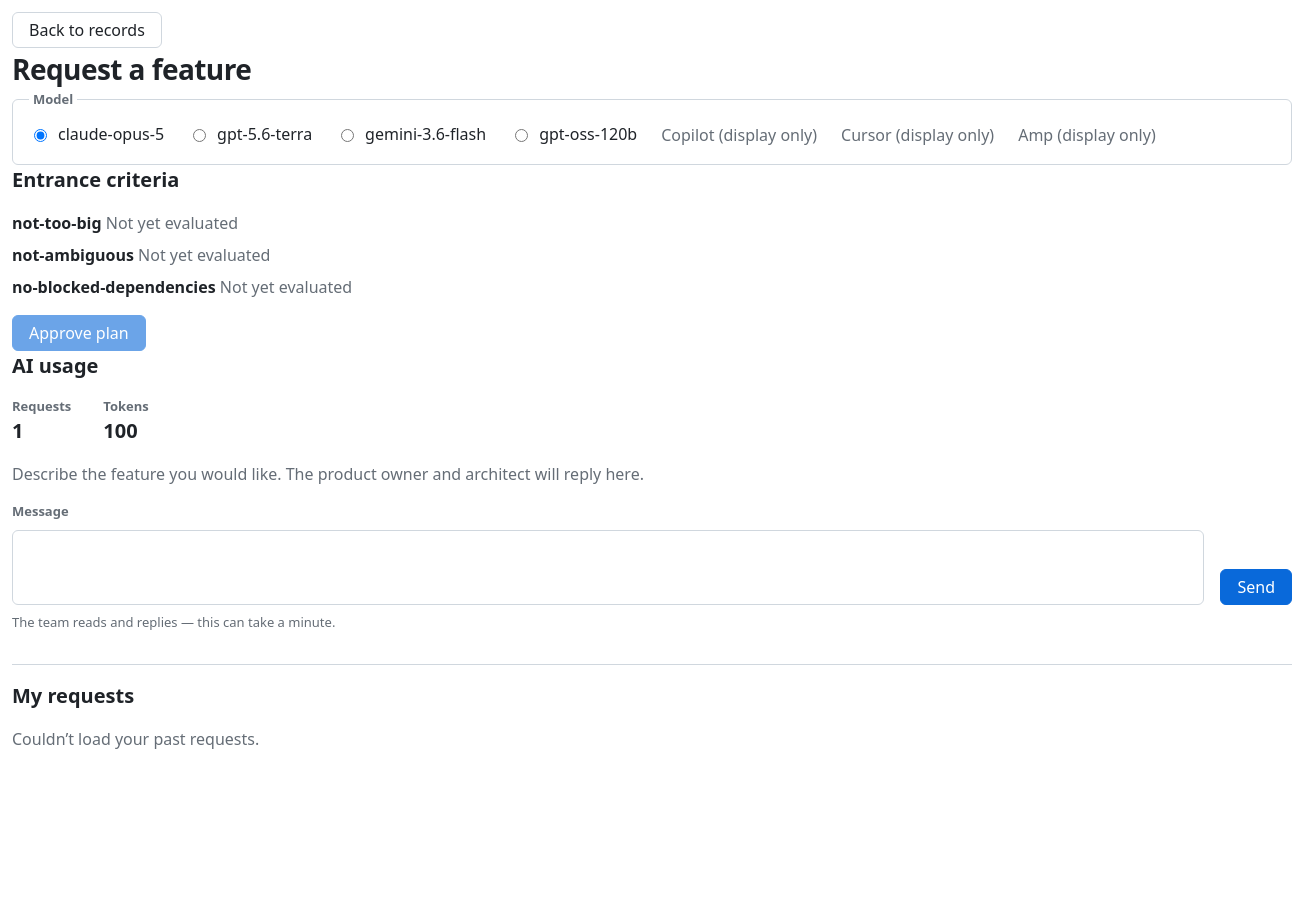
Test case: DAN-66 full model roster › still locks every roster radio once the session starts
The width and height of the screenshot is (1304, 912).
Expected: the text "Requests" is shown, [12,396,71,416]
Click the radio button labelled "gemini-3.6-flash" at (348, 135), box [341,128,354,142]
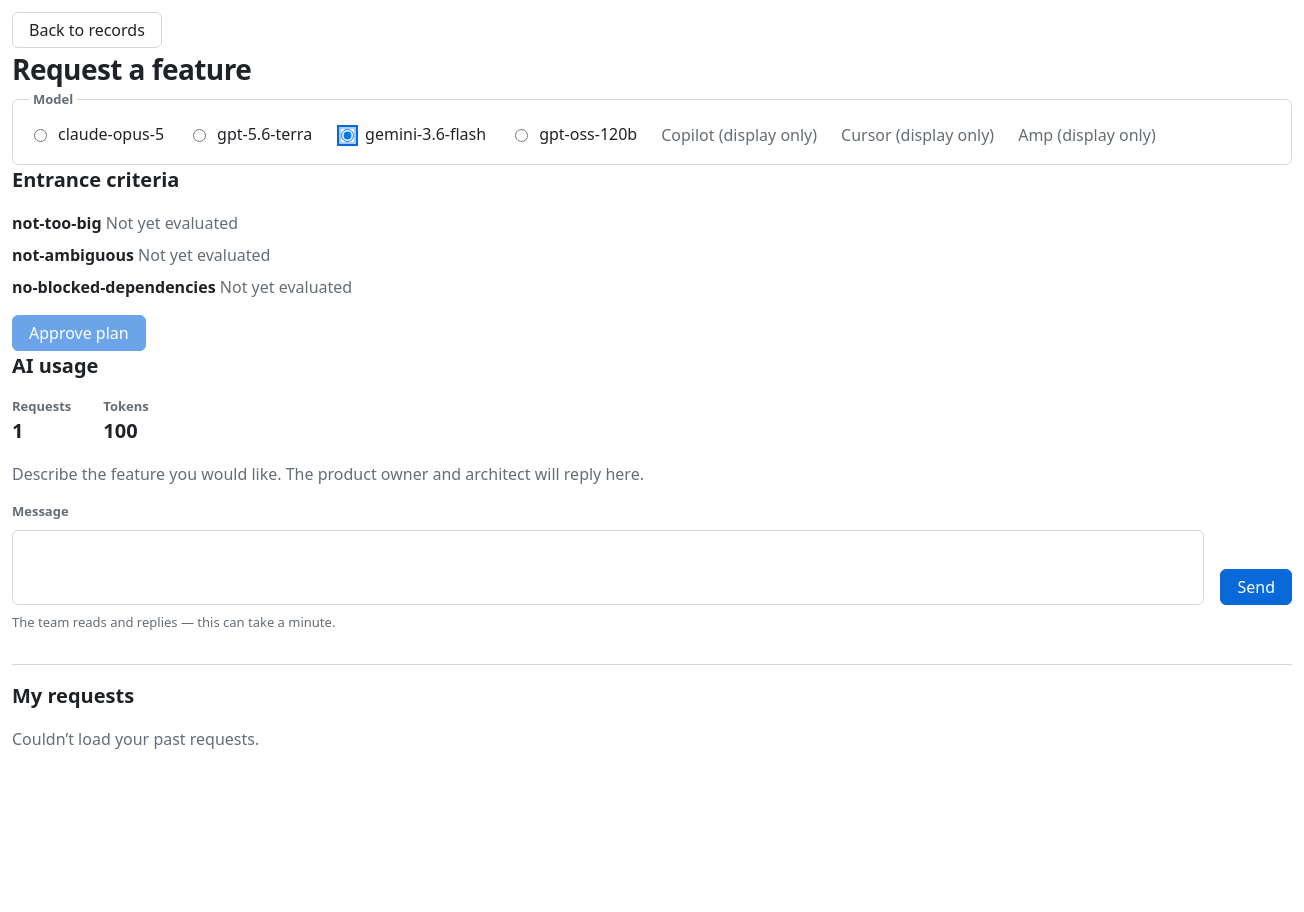
Type "Add CSV export" into the text box labelled "Message" at (608, 567), box [12,530,1204,604]
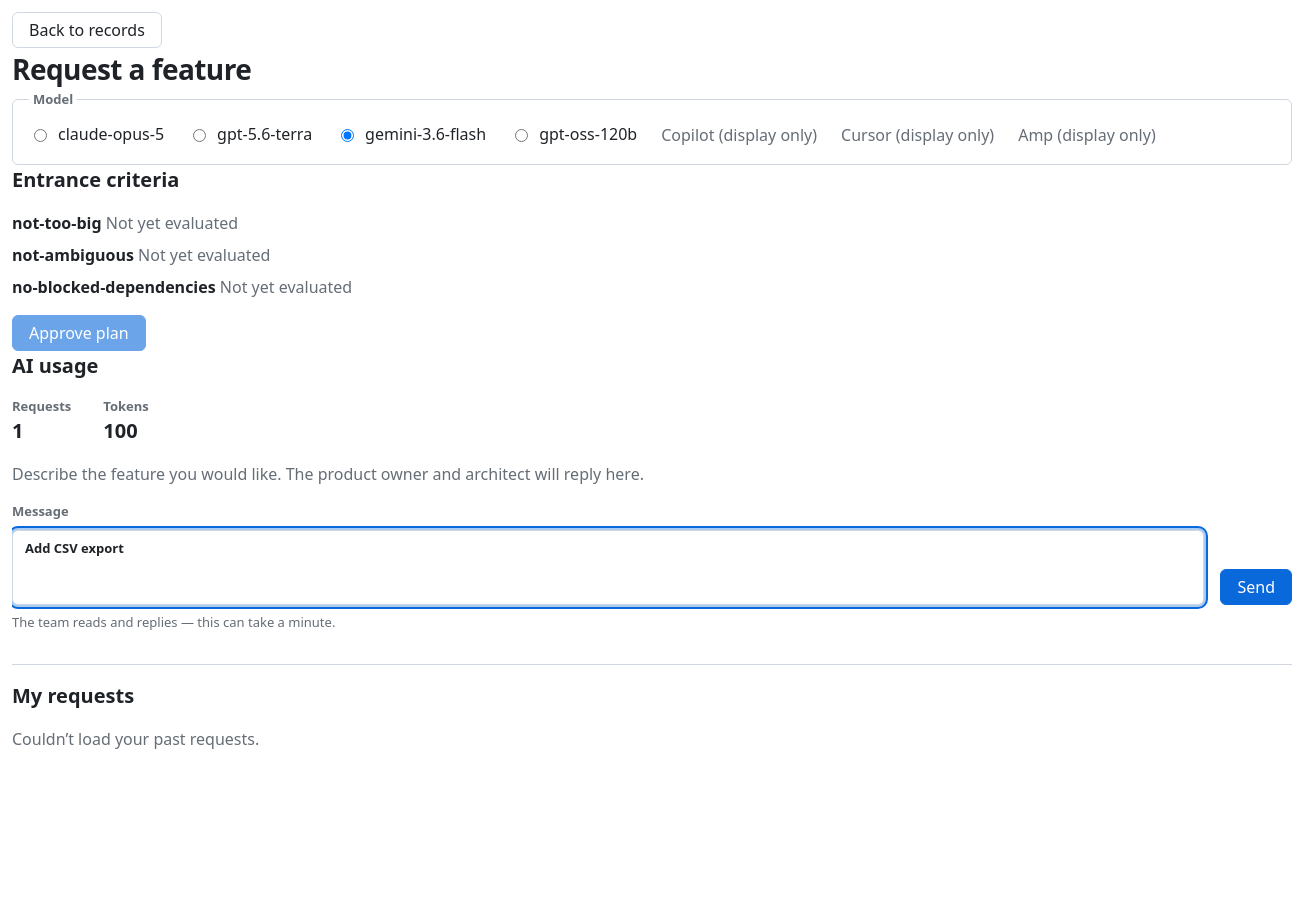
Click the button "Send" at (1256, 586), box [1220,568,1292,604]
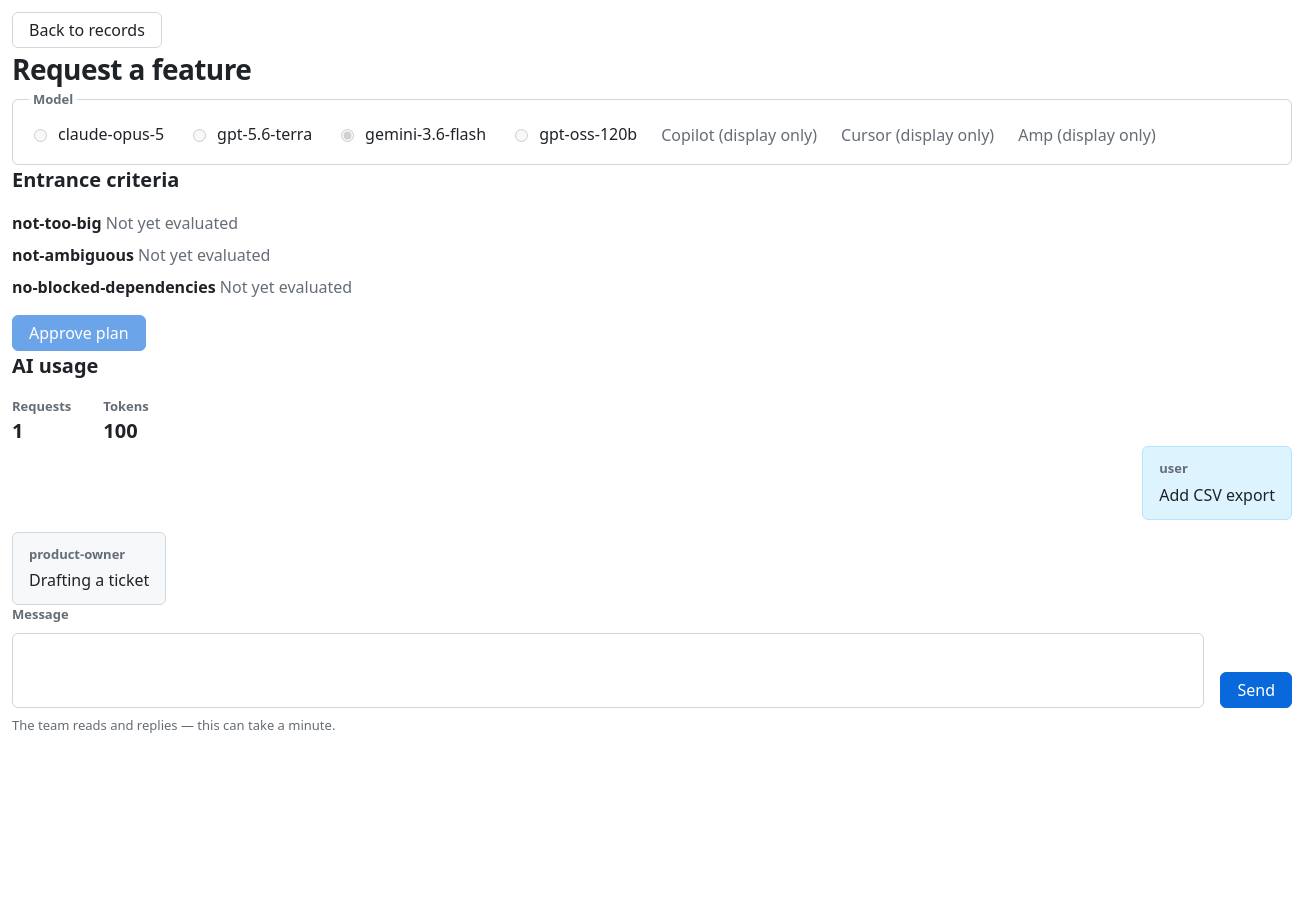
Expected: the radio button labelled "claude-opus-5" is disabled, [34,128,47,142]
Result: the radio button labelled "gemini-3.6-flash" is checked at [341,128,354,142]
Result: the list named "Conversation" is shown at [12,446,1292,605]
